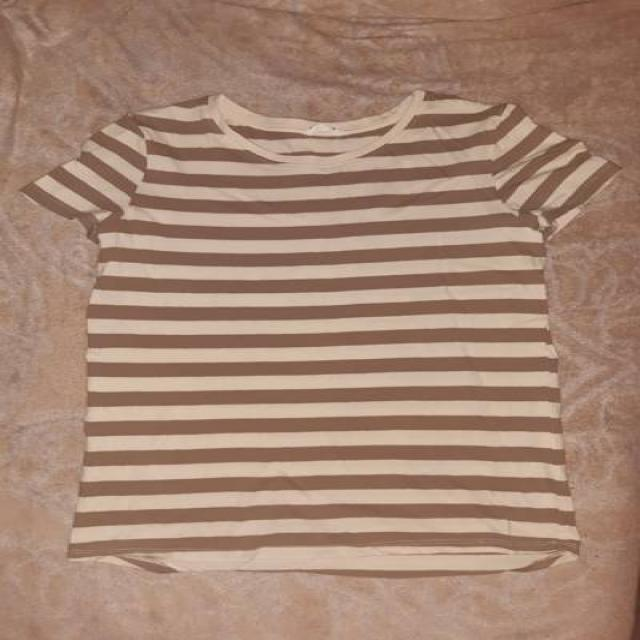Clothes -Biodegradable-: (23, 91, 622, 578)
